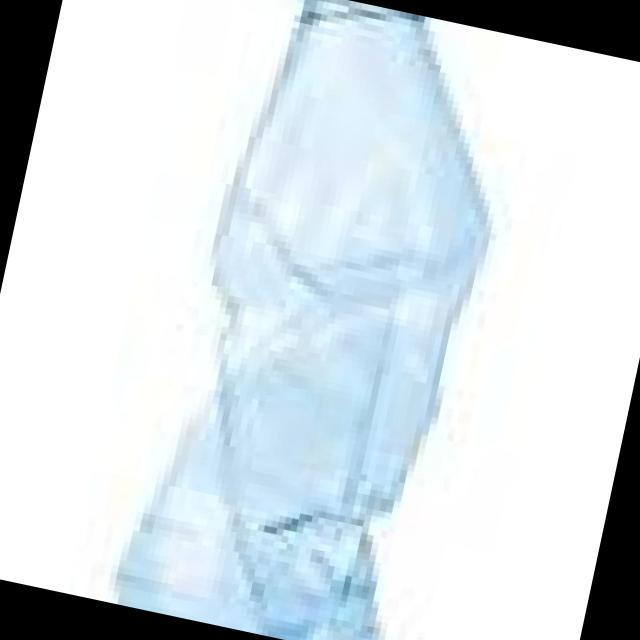defected: (100, 0, 560, 640)
